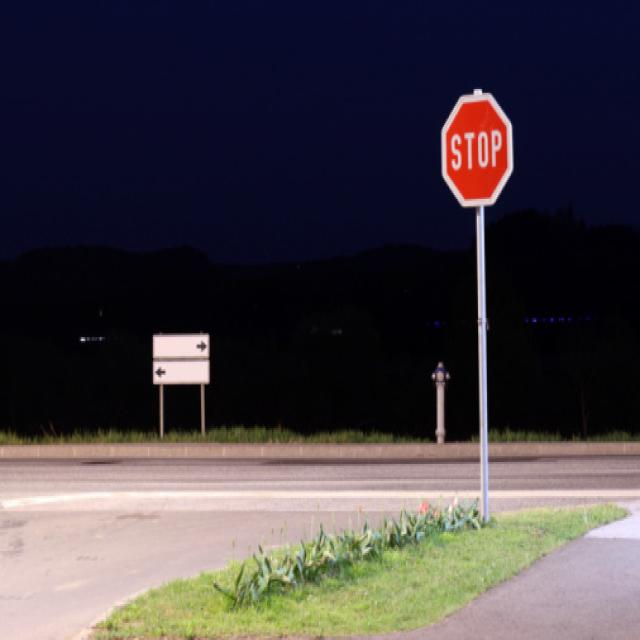STOP: (441, 93, 512, 204)
